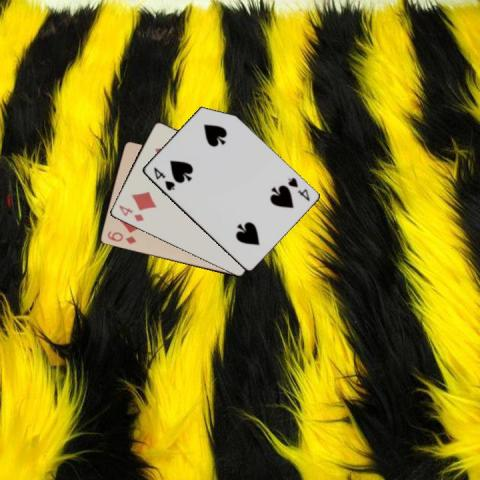4d: (115, 202, 145, 223)
4s: (284, 174, 310, 202), (151, 164, 176, 192)
6d: (104, 228, 137, 245)
